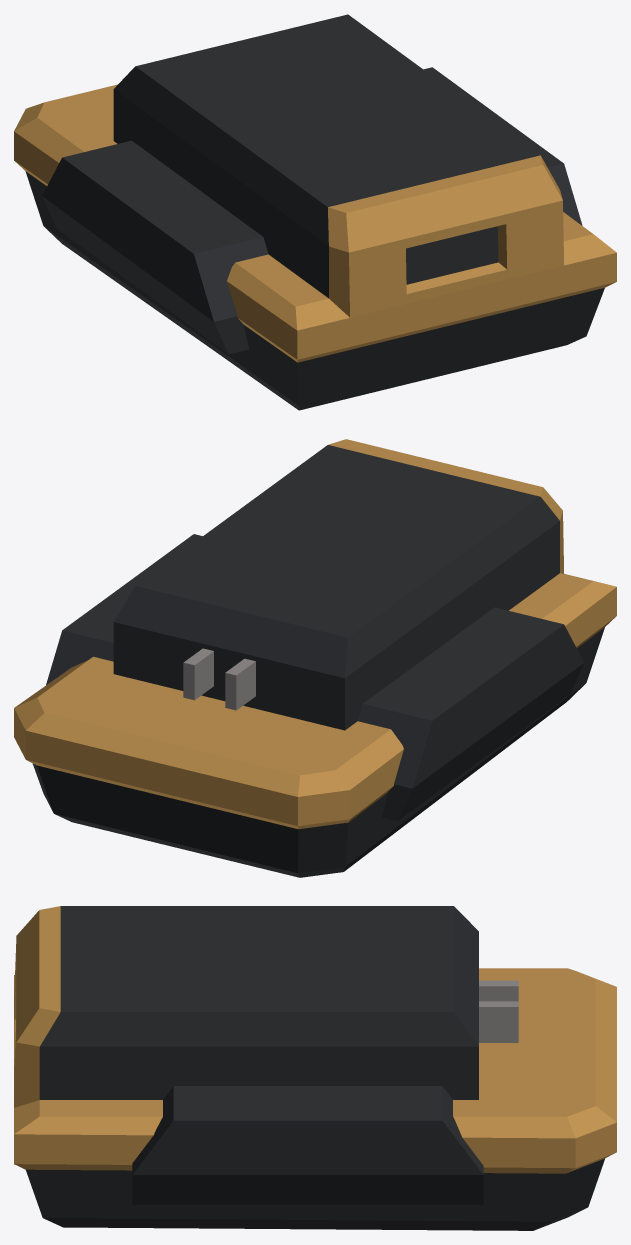
The model's file is SM_Tool_Battery_01.fbx.
3 views of the same model, one above another, from view 1: azimuth 30°, elevation 25°; view 2: azimuth 150°, elevation 25°; view 3: azimuth 270°, elevation 25° (orthographic). The views are drawn at different scales.
Visible parts, largest first — view 1: SM_Tool_Battery_01; view 2: SM_Tool_Battery_01; view 3: SM_Tool_Battery_01.
Boxes of the visible parts, bbox=[...] form: SM_Tool_Battery_01: bbox=[14, 14, 616, 410]; SM_Tool_Battery_01: bbox=[14, 439, 616, 877]; SM_Tool_Battery_01: bbox=[14, 906, 616, 1230].
Size of the model in its own units: 12.52 by 6.38 by 17.29.
